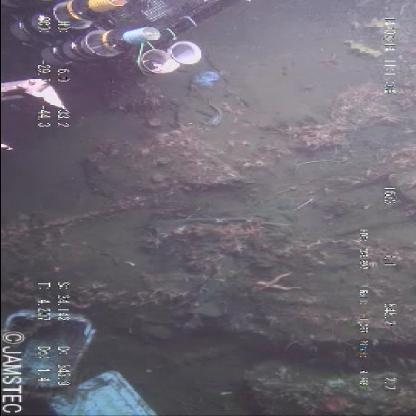Rov: (1, 1, 276, 159)
Rác: (1, 296, 162, 416)
